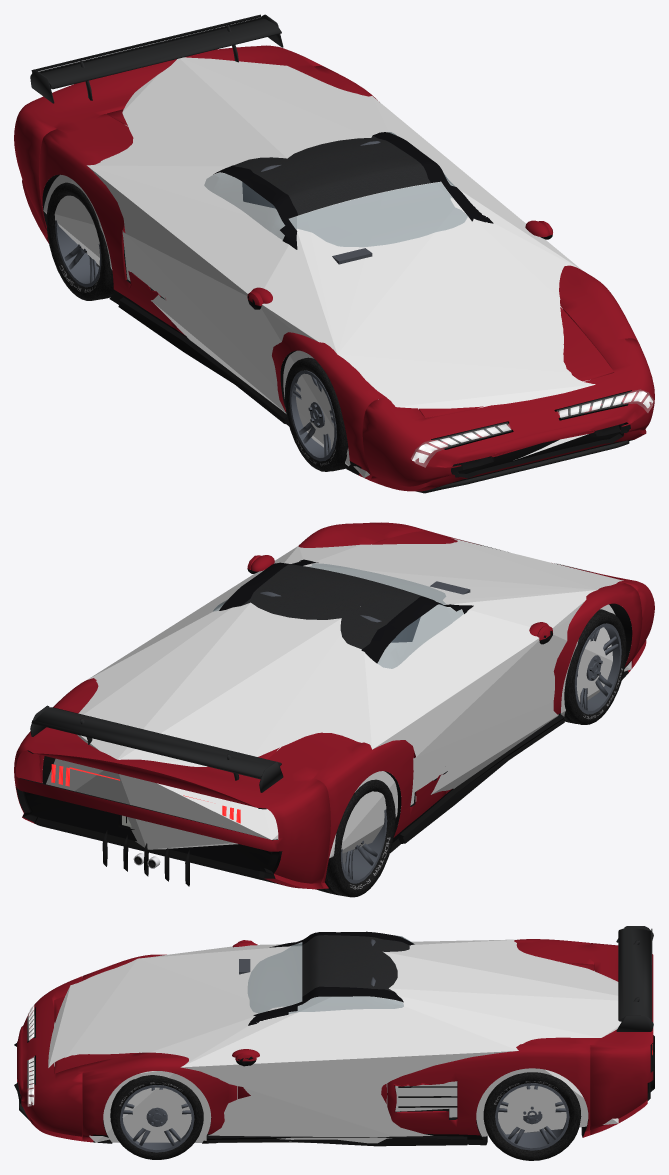
File: noctra_sable_lod1.glb
The picture shows the model from 3 angles, top to bottom: view 1: azimuth 30°, elevation 25°; view 2: azimuth 150°, elevation 25°; view 3: azimuth 270°, elevation 25°; orthographic projection. The views are drawn at different scales.
Parts seen in each view (by area): view 1: col_body, body, trim, glass, wheel_RR, wheel_FR, lights_front, interior, underbody; view 2: col_body, body, trim, wheel_FR, wheel_RR, glass, underbody, interior, lights_rear; view 3: col_body, body, trim, wheel_RL, glass, wheel_FL, lights_front.
Boxes of the visible parts, bbox=[...] form: col_body: bbox=[42, 57, 595, 477]; body: bbox=[14, 45, 654, 491]; trim: bbox=[30, 14, 631, 493]; glass: bbox=[204, 132, 467, 246]; wheel_RR: bbox=[46, 182, 113, 300]; wheel_FR: bbox=[285, 357, 348, 471]; lights_front: bbox=[411, 389, 653, 467]; interior: bbox=[242, 141, 380, 264]; underbody: bbox=[42, 174, 632, 488]; col_body: bbox=[46, 538, 631, 858]; body: bbox=[14, 522, 654, 889]; trim: bbox=[30, 541, 589, 886]; wheel_FR: bbox=[563, 609, 626, 724]; wheel_RR: bbox=[315, 779, 395, 897]; glass: bbox=[213, 563, 463, 668]; underbody: bbox=[34, 603, 632, 884]; interior: bbox=[260, 581, 470, 642]; lights_rear: bbox=[51, 764, 240, 823]; col_body: bbox=[48, 939, 621, 1143]; body: bbox=[14, 931, 653, 1145]; trim: bbox=[19, 926, 654, 1146]; wheel_RL: bbox=[483, 1072, 581, 1160]; glass: bbox=[248, 935, 411, 1013]; wheel_FL: bbox=[110, 1075, 203, 1159]; lights_front: bbox=[27, 1004, 34, 1106].
Size of the model in its own units: 1.95 by 1.16 by 4.55.
15 materials, 3 textured.
